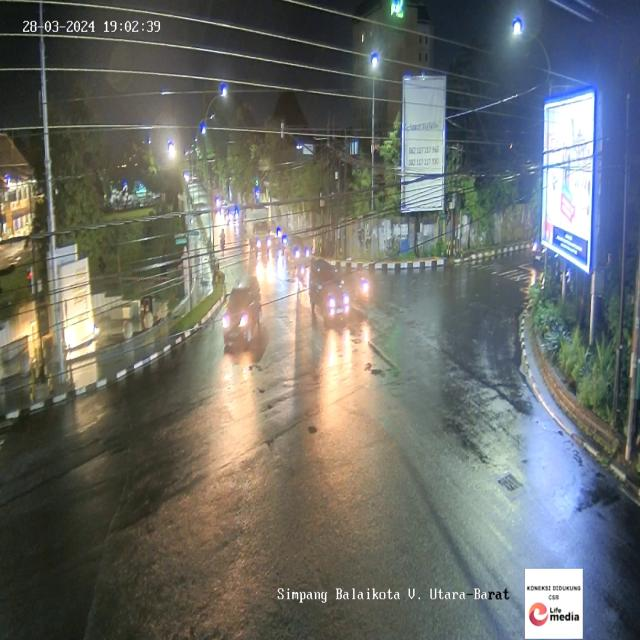car: (308, 260, 352, 328), (224, 277, 262, 344), (283, 232, 311, 267)
motorcycle: (353, 264, 370, 309)
truck: (246, 206, 272, 255)
